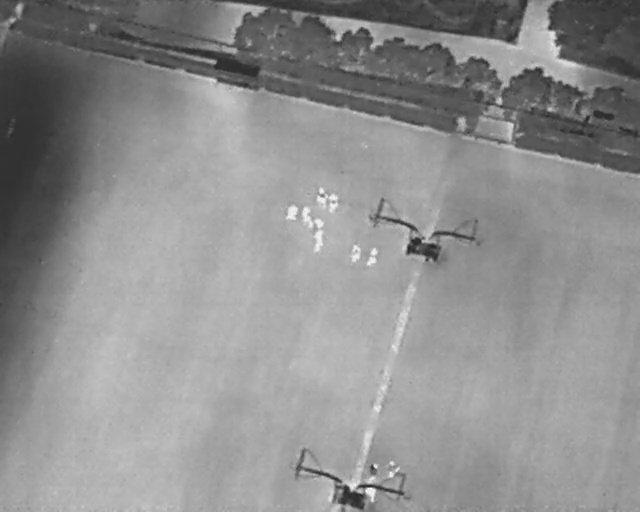Person: (282, 201, 300, 223), (364, 246, 381, 269), (314, 185, 329, 210), (311, 231, 325, 253), (386, 458, 401, 478), (326, 193, 340, 214), (300, 204, 313, 225), (365, 483, 377, 503), (351, 243, 361, 264), (312, 218, 325, 231), (369, 463, 379, 479)
